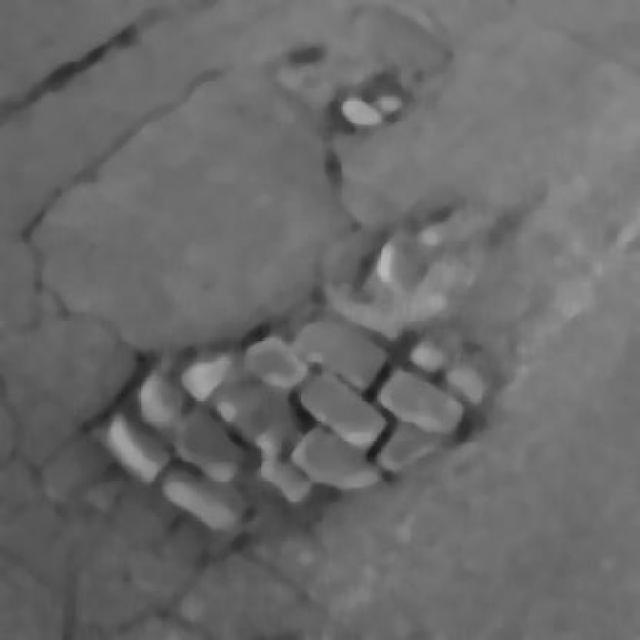Pothole: (120, 336, 454, 504)
